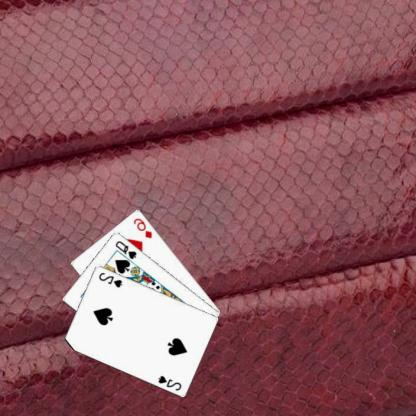2S: (98, 269, 126, 289), (158, 373, 184, 392)
6D: (132, 215, 155, 239)
QS: (115, 238, 140, 260)
